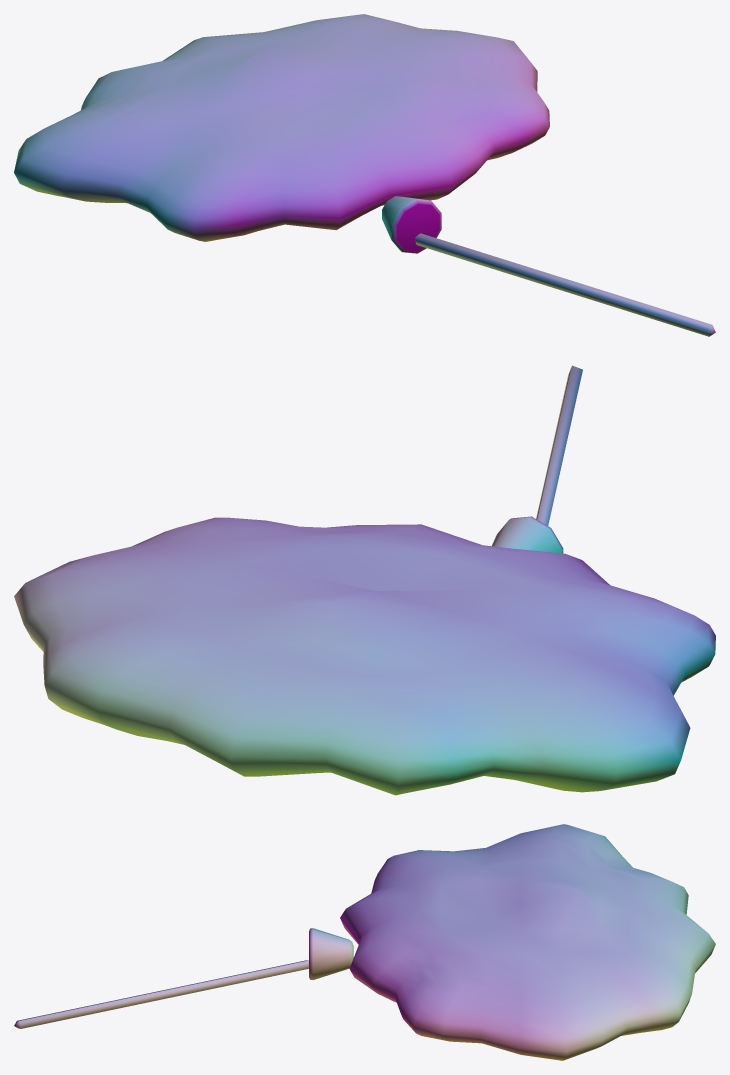
Rendered from env_deco_balloon.glb.
3 renders of one model, top to bottom at view 1: azimuth 30°, elevation 25°; view 2: azimuth 150°, elevation 25°; view 3: azimuth 270°, elevation 25°, orthographic. The views are drawn at different scales.
Parts seen in each view (by area): view 1: env_deco_balloon_mesh; view 2: env_deco_balloon_mesh; view 3: env_deco_balloon_mesh.
Part boxes in pixels (x1=…): env_deco_balloon_mesh: x1=14, y1=14, x2=715, y2=336; env_deco_balloon_mesh: x1=14, y1=365, x2=715, y2=795; env_deco_balloon_mesh: x1=14, y1=824, x2=715, y2=1060.
Bounding box in the file's own units: 0.4667 × 0.0941 × 0.6296.
